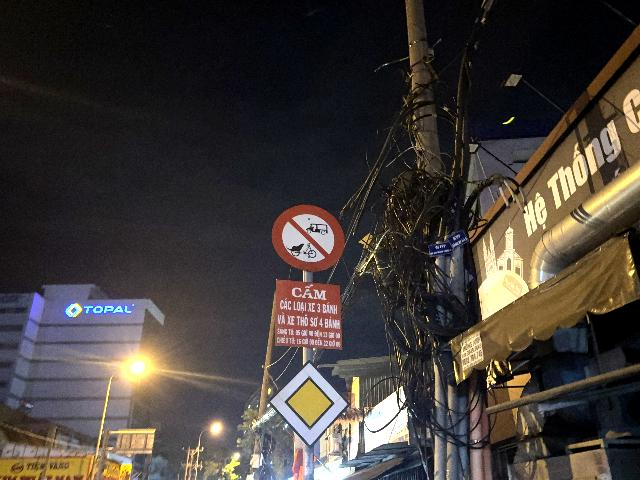bat-dau-duong-uu-tien: (267, 359, 351, 449)
cam-xe-3-banh-xe-tho-so-4-banh: (271, 204, 346, 272)
